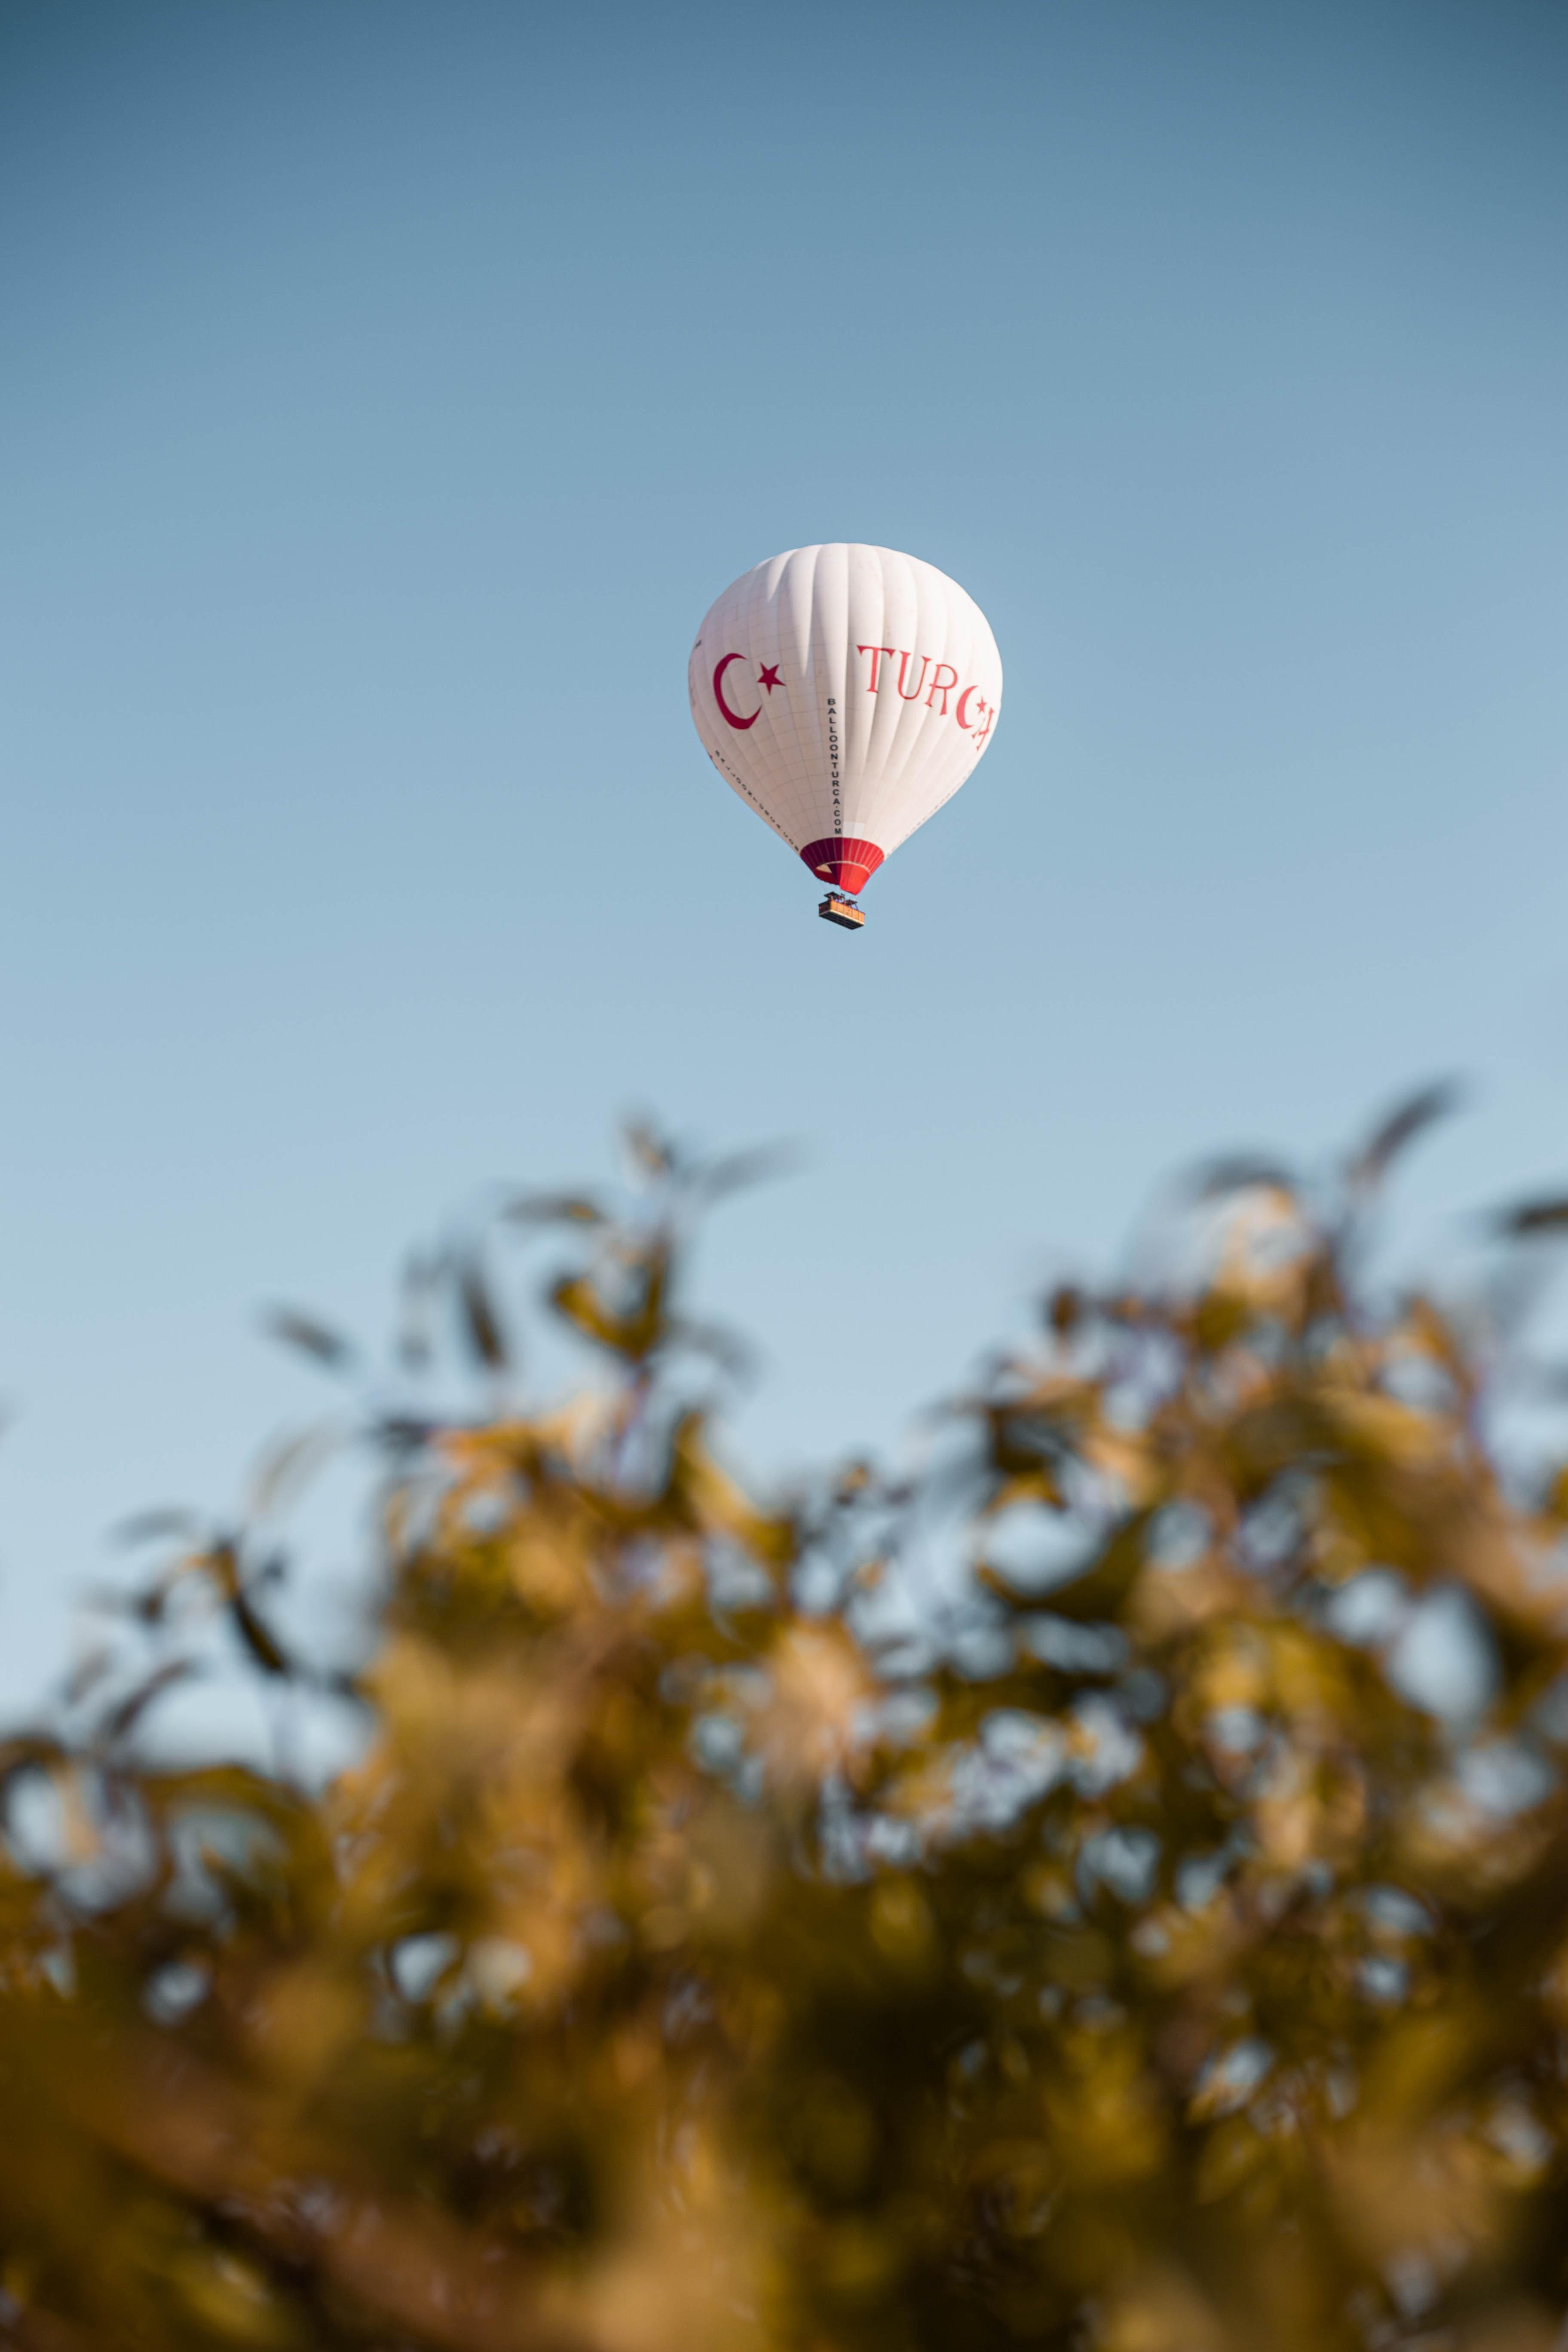hot air ballon: (688, 542, 1003, 933)
